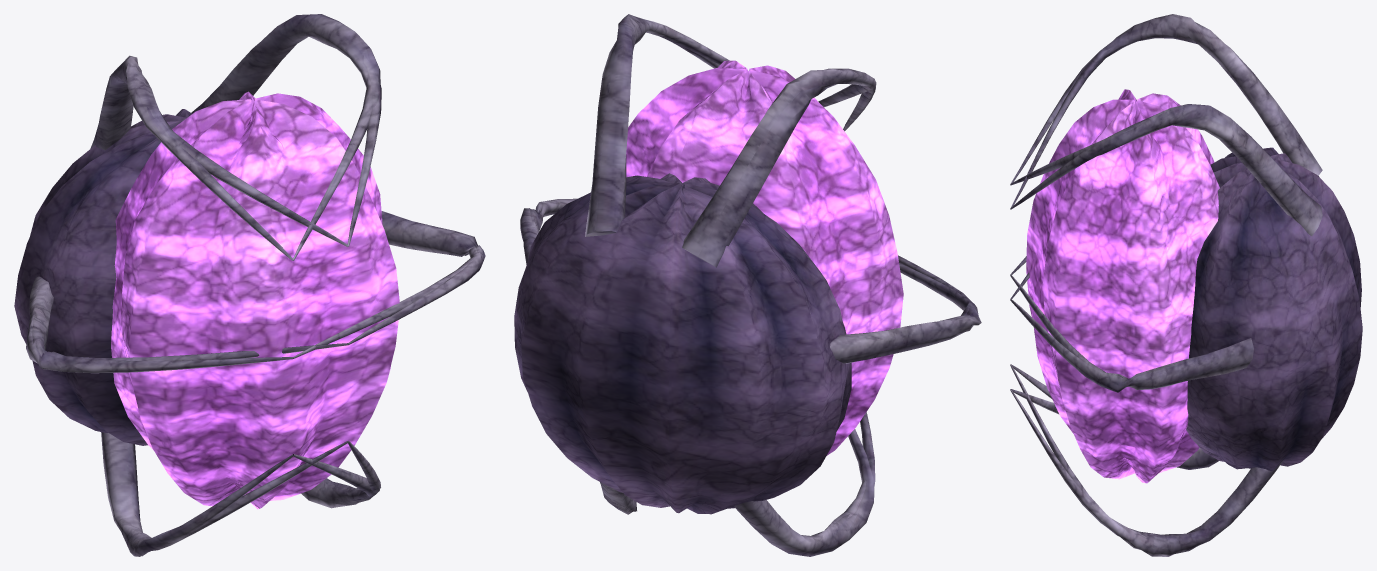
Rendered from unstrung-heart.glb.
The picture shows the model from 3 angles, left to right: view 1: azimuth 30°, elevation 25°; view 2: azimuth 150°, elevation 25°; view 3: azimuth 270°, elevation 25°; orthographic projection. The views are drawn at different scales.
Parts seen in each view (by area): view 1: unstrung-heart_signal, unstrung-heart_rib, unstrung-heart_carapace; view 2: unstrung-heart_carapace, unstrung-heart_signal, unstrung-heart_rib; view 3: unstrung-heart_signal, unstrung-heart_carapace, unstrung-heart_rib.
Part boxes in pixels (left/top/right/bottom): unstrung-heart_signal: left=111, top=91, right=399, bottom=509; unstrung-heart_rib: left=26, top=14, right=485, bottom=556; unstrung-heart_carapace: left=14, top=108, right=203, bottom=445; unstrung-heart_carapace: left=514, top=173, right=851, bottom=514; unstrung-heart_signal: left=626, top=60, right=903, bottom=455; unstrung-heart_rib: left=520, top=14, right=981, bottom=556; unstrung-heart_signal: left=1026, top=89, right=1219, bottom=483; unstrung-heart_carapace: left=1186, top=147, right=1362, bottom=470; unstrung-heart_rib: left=1010, top=14, right=1322, bottom=556.
Bounding box in the file's own units: 1.3 × 1.36 × 0.961.
Materials: 3 (3 with a texture image).
